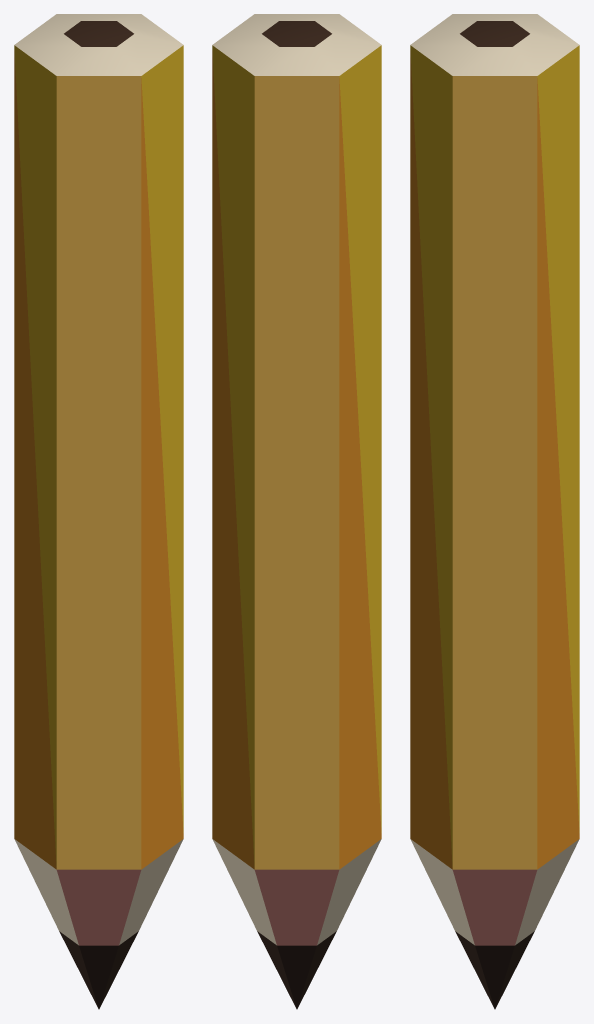
File: itch_kaykit_rpg_tools_pencil_a_long.glb
3 views of the same model, side by side, from view 1: azimuth 30°, elevation 25°; view 2: azimuth 150°, elevation 25°; view 3: azimuth 270°, elevation 25° (orthographic).
Visible parts, largest first — view 1: pencil_A_long; view 2: pencil_A_long; view 3: pencil_A_long.
Part boxes in pixels (x1,y1,x2,y2): pencil_A_long: (14, 14, 183, 1009); pencil_A_long: (212, 14, 381, 1009); pencil_A_long: (410, 14, 579, 1009).
Bounding box in the file's own units: 0.1227 × 0.9 × 0.1417.
